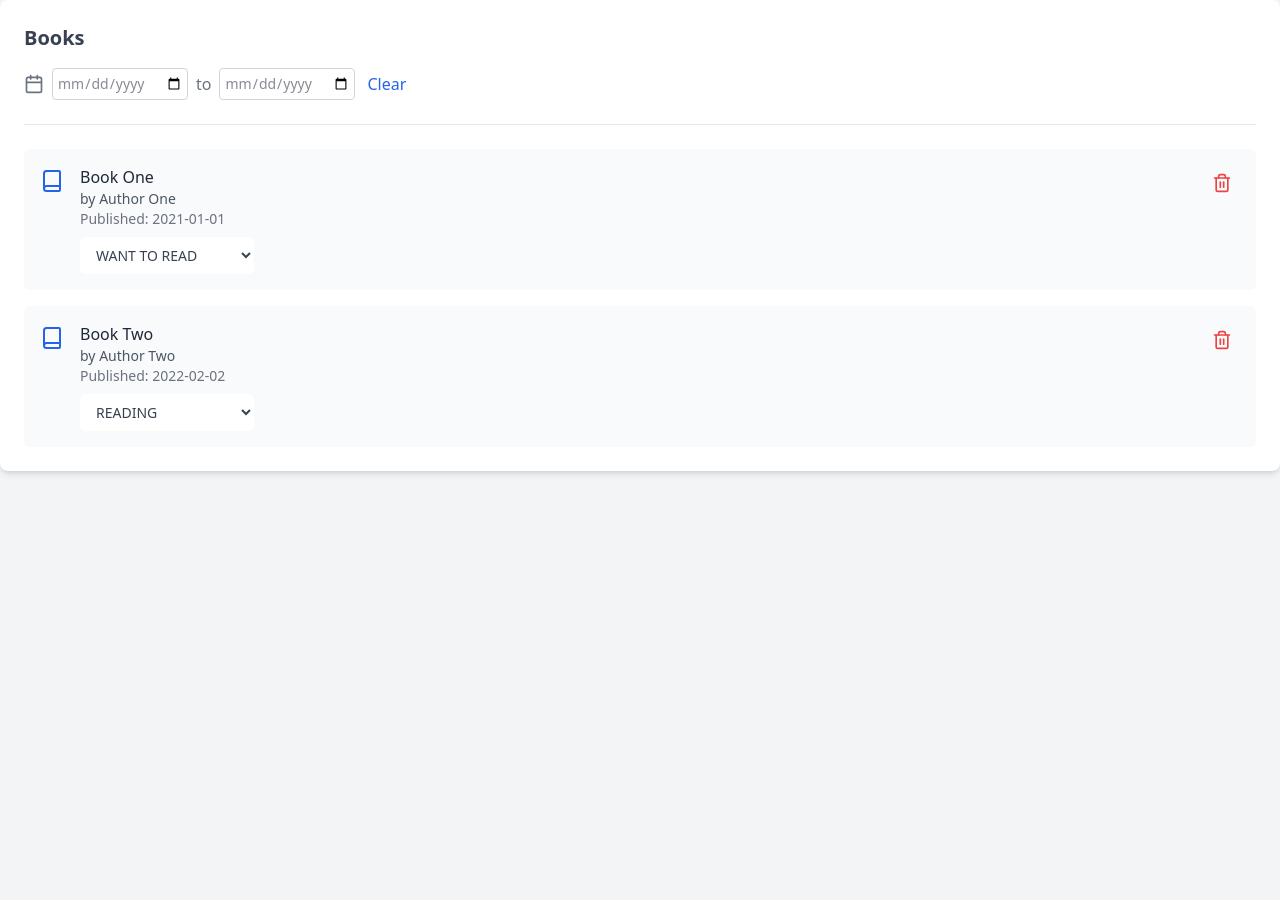
Test: BooksList › should undo book deletion when undo button is clicked
The width and height of the screenshot is (1280, 900).
Click the button named "Delete".
click(1222, 183)  # box [1204,165,1240,201]
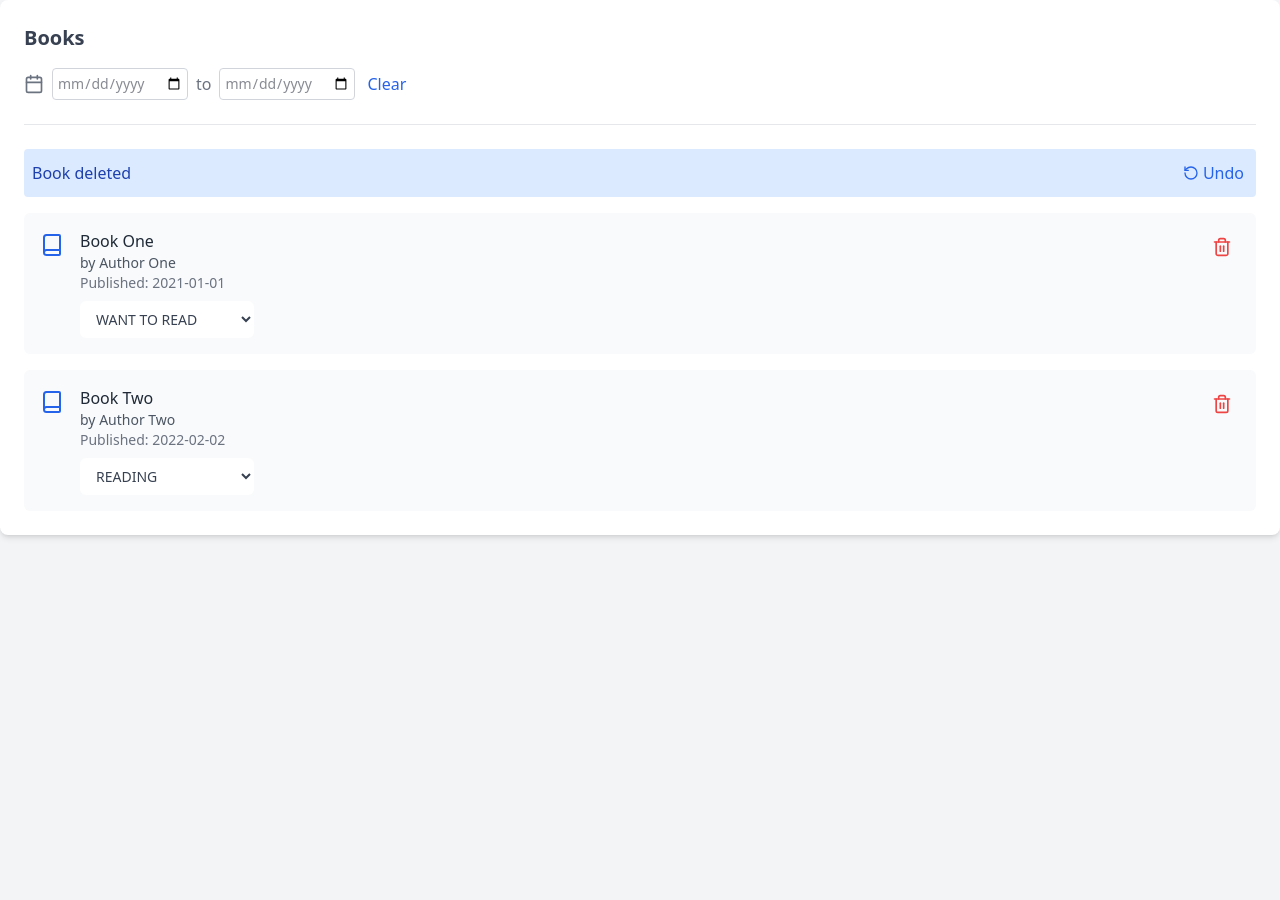
Click the button "Undo".
click(1213, 173)  # box [1179,157,1248,189]
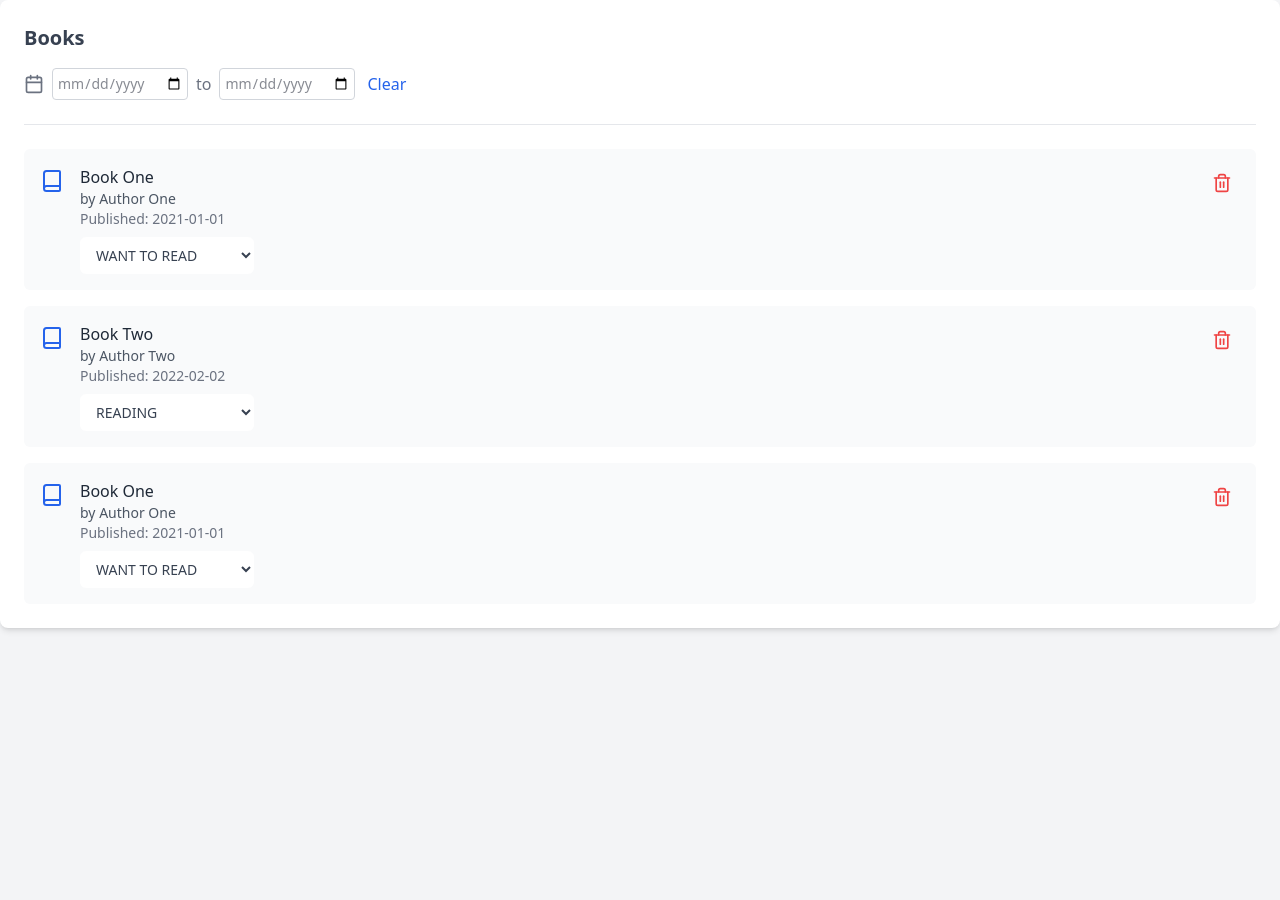
expect the 1st heading "Book One" is shown: met, box [80,166,154,188]
expect the text "Book deleted" is gone: met
expect the button "Undo" is gone: met
